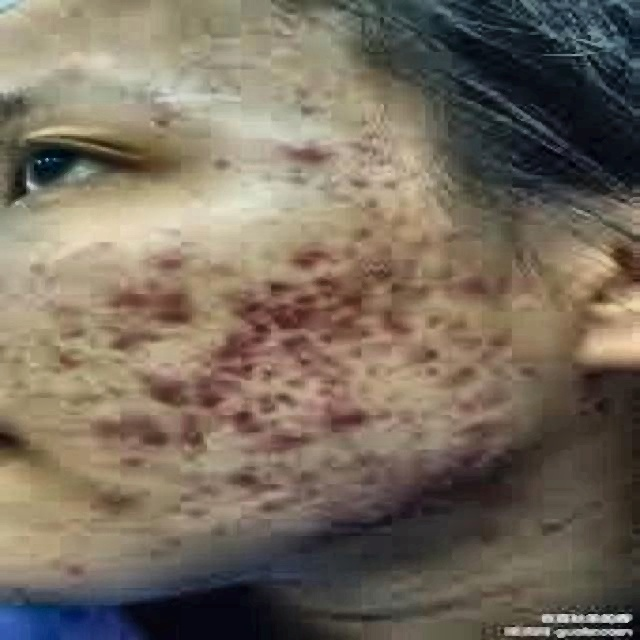nodule: (83, 484, 169, 534), (120, 366, 204, 402), (440, 436, 516, 474), (222, 465, 309, 497), (354, 233, 425, 270), (342, 452, 422, 484), (448, 374, 520, 407), (286, 136, 358, 167), (354, 188, 414, 225), (86, 277, 150, 311), (316, 393, 384, 424), (102, 318, 170, 348), (52, 376, 116, 407), (294, 255, 346, 292), (188, 331, 248, 363), (124, 413, 173, 450), (211, 359, 275, 387), (154, 498, 218, 526), (373, 313, 429, 344), (226, 402, 278, 435), (362, 162, 411, 197), (83, 409, 132, 443), (151, 279, 203, 311), (440, 411, 520, 430), (331, 288, 384, 316), (267, 298, 320, 326), (459, 262, 508, 292), (222, 290, 271, 320), (45, 316, 94, 346), (436, 357, 486, 385), (373, 398, 418, 428), (192, 516, 248, 540), (312, 346, 358, 374), (49, 346, 98, 372), (305, 372, 358, 396), (110, 441, 154, 469), (271, 238, 328, 259), (391, 413, 433, 441), (132, 536, 180, 560), (140, 251, 200, 270), (267, 329, 305, 359), (335, 318, 373, 348), (369, 270, 425, 290), (184, 478, 226, 504), (425, 307, 467, 333), (252, 279, 309, 298), (49, 556, 94, 580), (166, 415, 210, 439), (478, 342, 527, 363), (478, 320, 520, 344), (320, 162, 369, 182), (226, 320, 263, 346), (147, 307, 203, 324), (350, 359, 395, 380), (264, 428, 308, 446), (184, 374, 214, 394)
